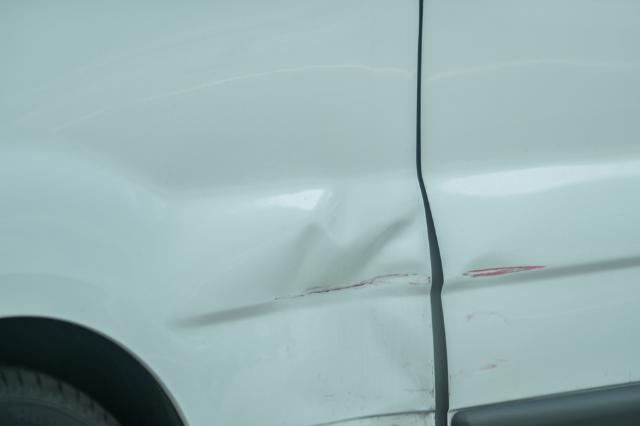Door: (218, 155, 431, 426), (445, 246, 605, 381)
